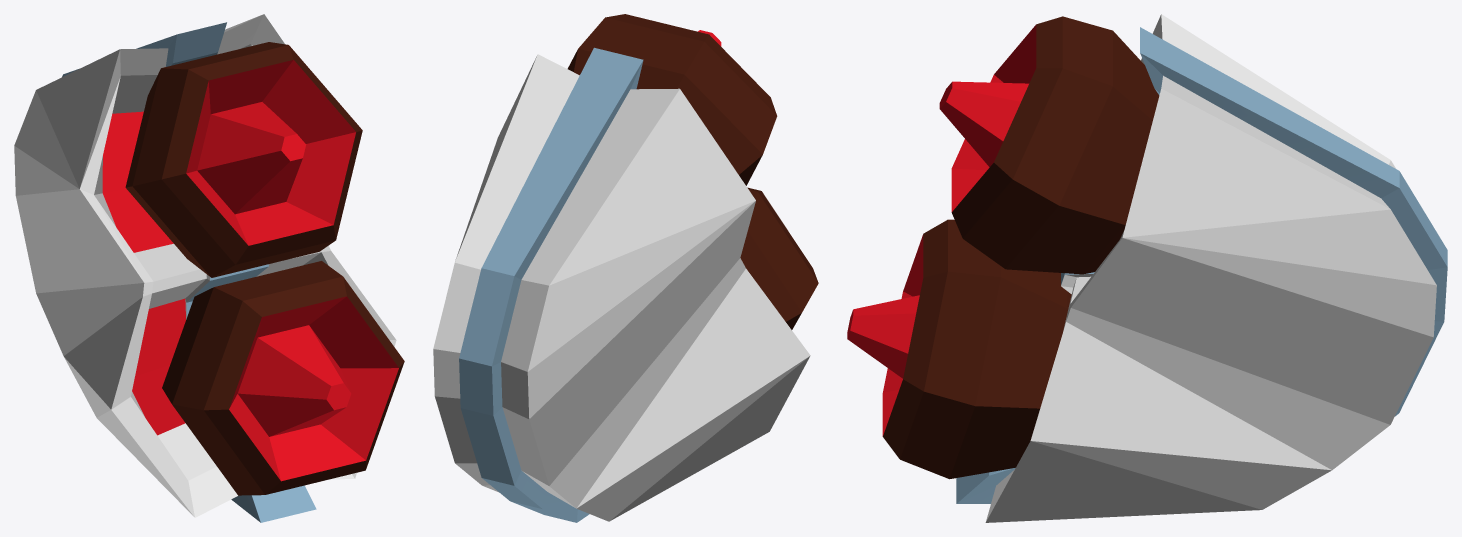
File: GEAR_ROCKET_BOOSTER.fbx
3 views of the same model, side by side, from view 1: azimuth 30°, elevation 25°; view 2: azimuth 150°, elevation 25°; view 3: azimuth 270°, elevation 25° (orthographic). The views are drawn at different scales.
Parts seen in each view (by area): view 1: GEAR_BOOSTER.001_Cone.008; view 2: GEAR_BOOSTER.001_Cone.008; view 3: GEAR_BOOSTER.001_Cone.008.
Part boxes in pixels (left/top/right/bottom): GEAR_BOOSTER.001_Cone.008: left=14, top=14, right=404, bottom=522; GEAR_BOOSTER.001_Cone.008: left=433, top=14, right=818, bottom=522; GEAR_BOOSTER.001_Cone.008: left=847, top=14, right=1447, bottom=522.
Size of the model in its own units: 440 by 631 by 757.
